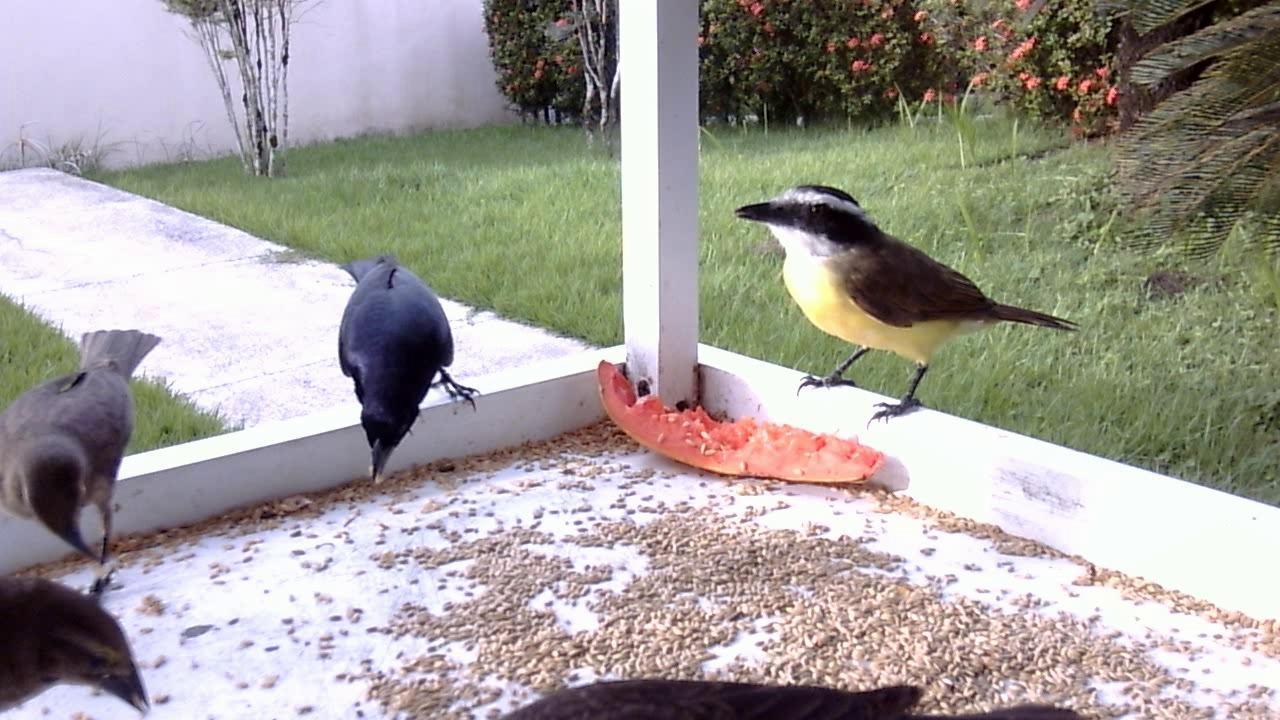bem_te_vi: (722, 175, 1081, 438)
chupim: (1, 317, 180, 602), (324, 242, 488, 484), (1, 568, 161, 717)
